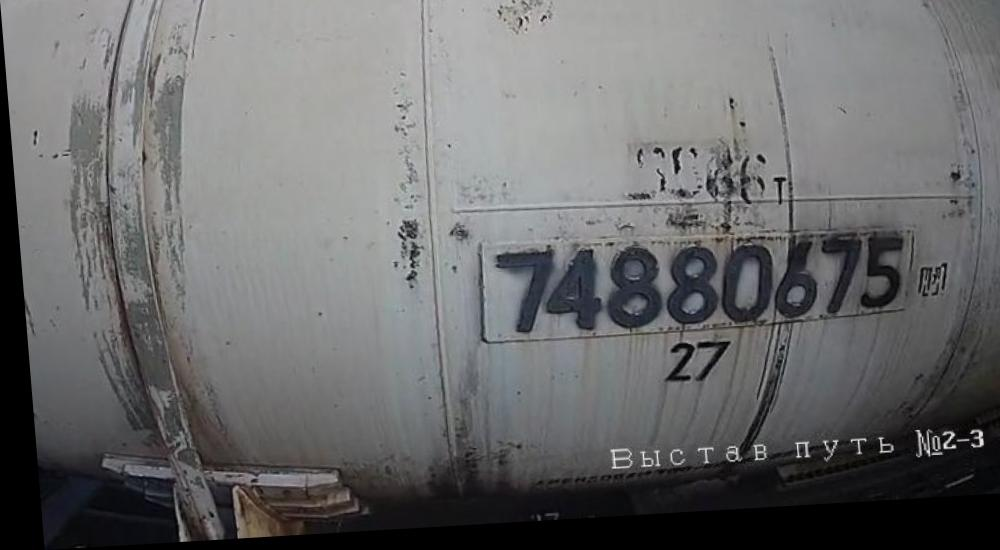Wagon-number: (485, 229, 905, 344)
